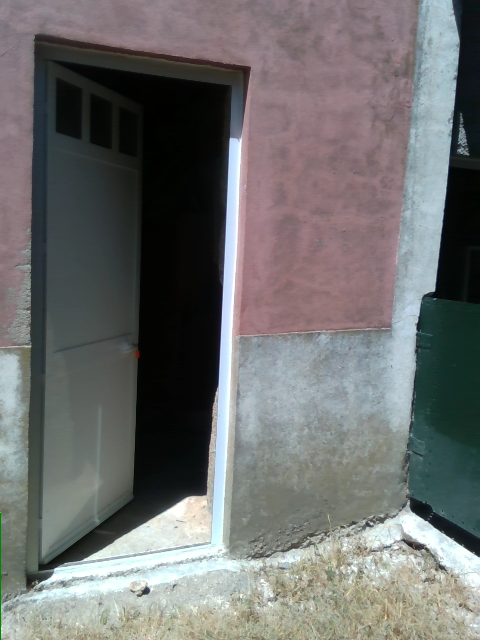semi: (24, 43, 244, 580)
